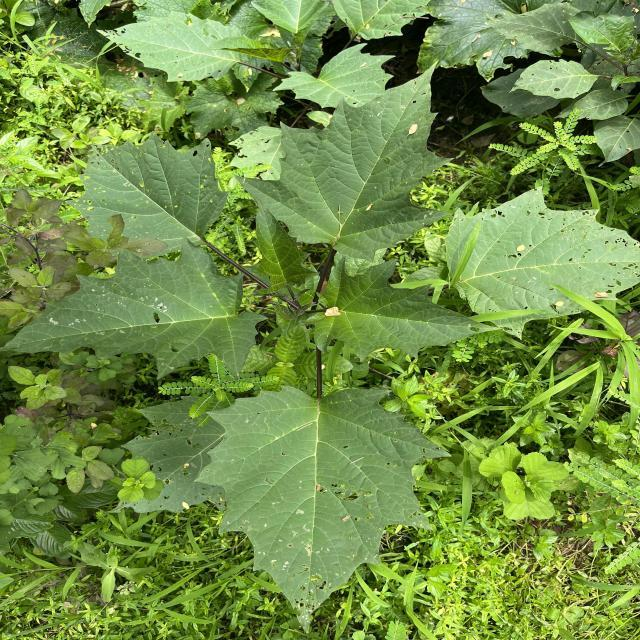Datura metal linn: (192, 383, 454, 635), (232, 57, 458, 266), (1, 232, 270, 380), (442, 183, 640, 344), (296, 255, 506, 365), (62, 128, 232, 262), (93, 9, 241, 84), (270, 40, 398, 110), (250, 193, 322, 297), (507, 58, 601, 102), (200, 30, 299, 64)
